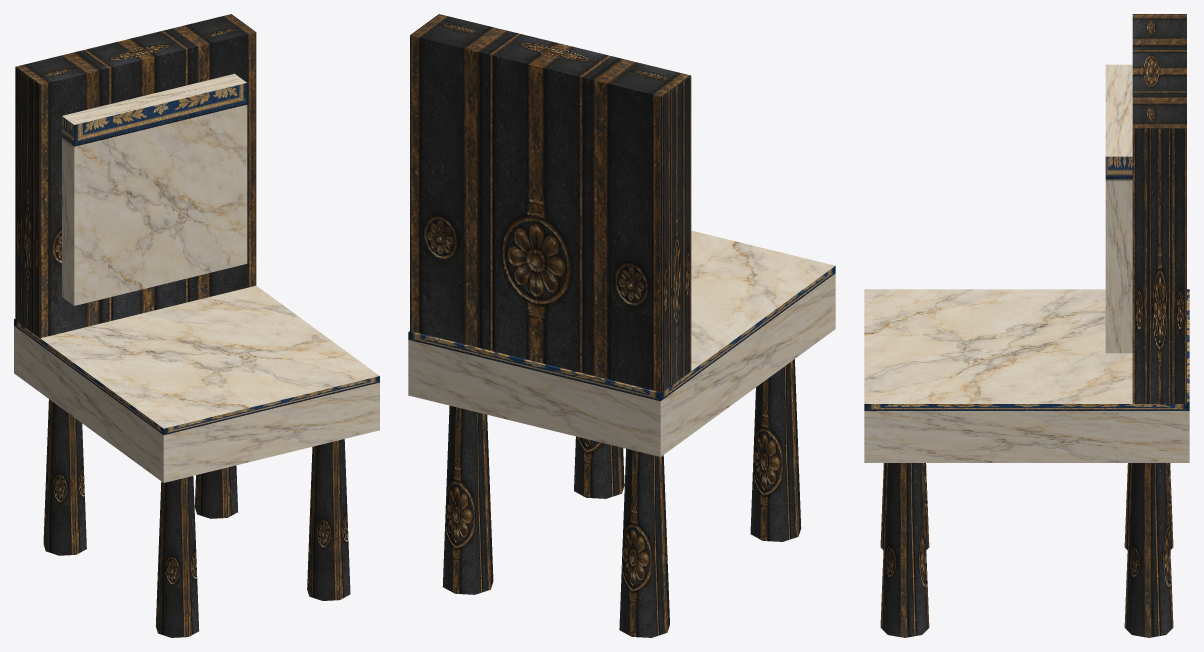
Rendered from dining-chair.gltf.
The picture shows the model from 3 angles, left to right: view 1: azimuth 30°, elevation 25°; view 2: azimuth 150°, elevation 25°; view 3: azimuth 270°, elevation 25°; orthographic projection. The views are drawn at different scales.
Visible parts, largest first — view 1: kit:0:furniture:blue:, kit:0:furniture:mahogany:; view 2: kit:0:furniture:mahogany:, kit:0:furniture:blue:; view 3: kit:0:furniture:blue:, kit:0:furniture:mahogany:.
Part boxes in pixels (box(x1,y1,x2,y2)): kit:0:furniture:blue:: box(14, 73, 379, 482); kit:0:furniture:mahogany:: box(15, 14, 350, 637); kit:0:furniture:mahogany:: box(410, 14, 801, 637); kit:0:furniture:blue:: box(408, 230, 835, 456); kit:0:furniture:blue:: box(864, 64, 1189, 462); kit:0:furniture:mahogany:: box(880, 14, 1186, 637).
Bounding box in the file's own units: 0.5 × 1.05 × 0.6.
2 materials, 2 textured.
